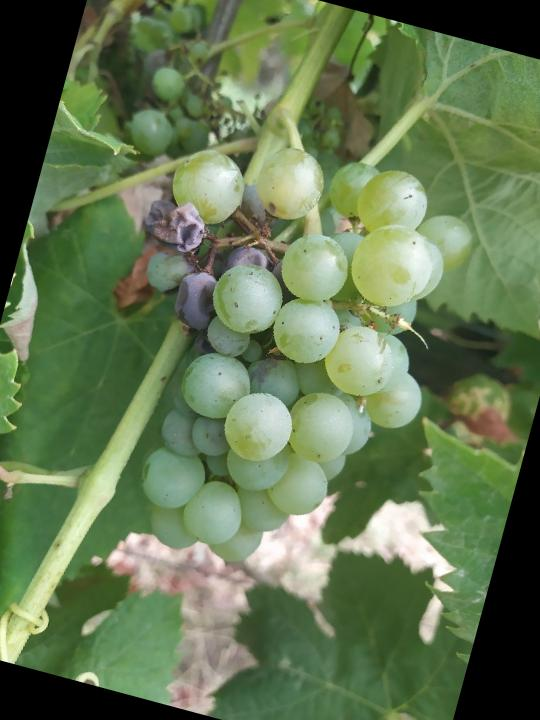grape: (60, 105, 482, 604)
